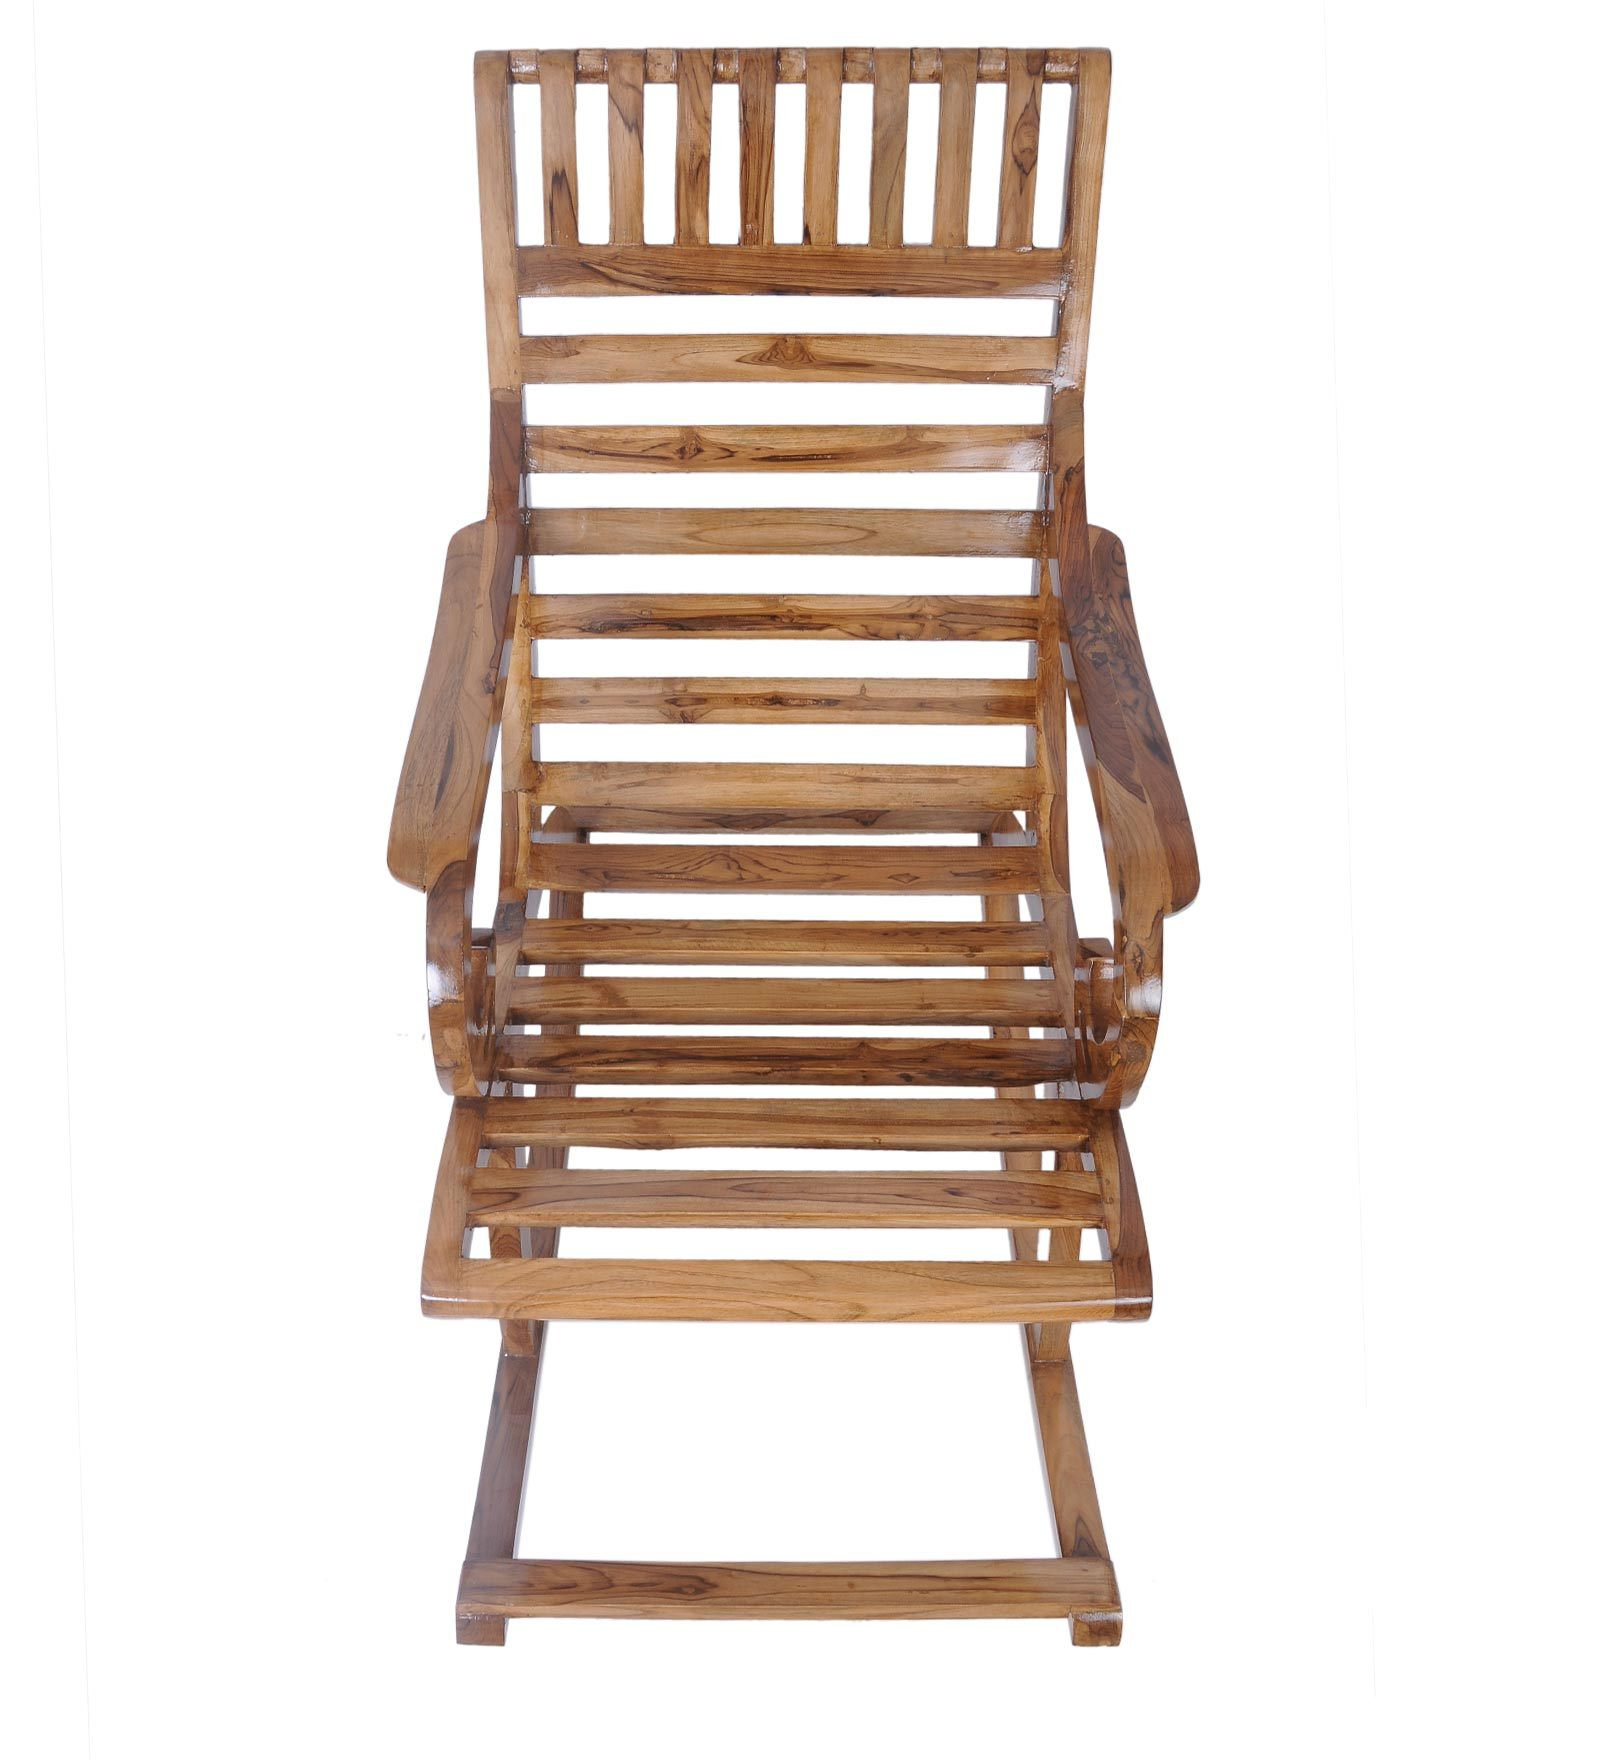Teak Wood Rocking Chair in Light Teak Finish by Karigar: (331, 37, 1269, 1676)
